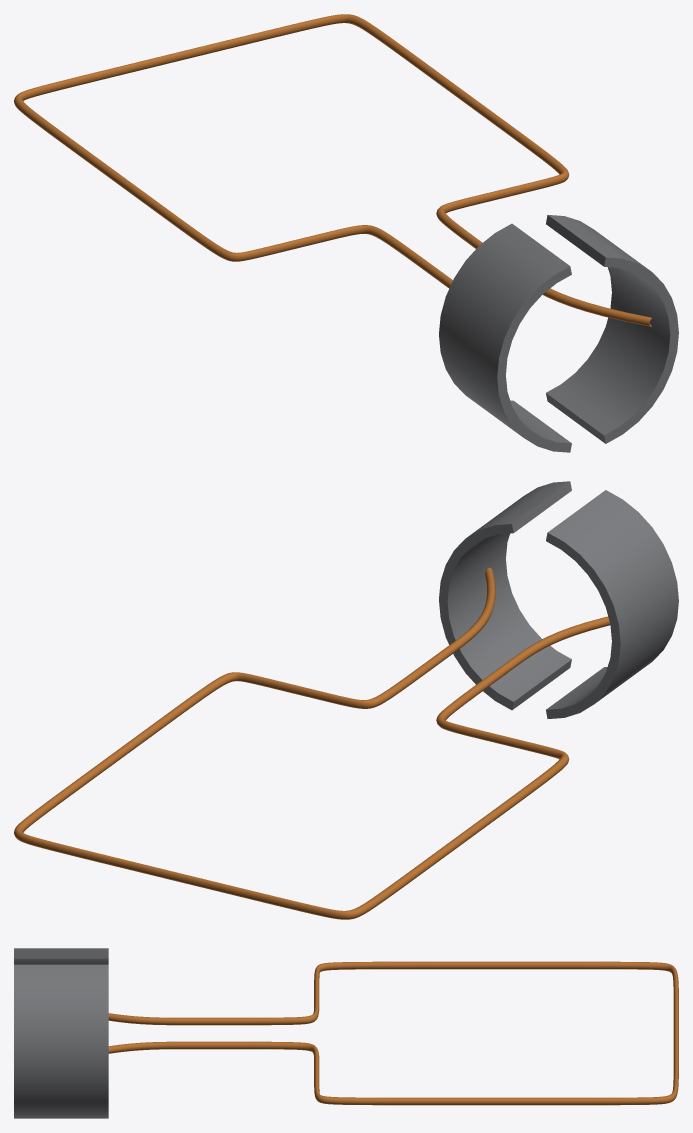
Rendered from DCcoil.glb.
The picture shows the model from 3 angles, top to bottom: view 1: azimuth 30°, elevation 25°; view 2: azimuth 150°, elevation 25°; view 3: azimuth 270°, elevation 25°; orthographic projection. The views are drawn at different scales.
Parts seen in each view (by area): view 1: 円柱.003, 円柱.001, NURBSパス.006; view 2: 円柱.003, NURBSパス.006, 円柱.001; view 3: 円柱.001, NURBSパス.006, 円柱.003.
Part boxes in pixels (box(x1,y1,x2,y2)): 円柱.003: box(439, 223, 571, 452); 円柱.001: box(546, 215, 678, 443); NURBSパス.006: box(14, 14, 651, 326); 円柱.003: box(546, 490, 678, 718); NURBSパス.006: box(14, 567, 610, 919); 円柱.001: box(439, 481, 571, 710); 円柱.001: box(14, 964, 108, 1118); NURBSパス.006: box(108, 961, 678, 1105); 円柱.003: box(14, 948, 108, 964).
Bounding box in the file's own units: 3.48 × 1.77 × 7.03.
